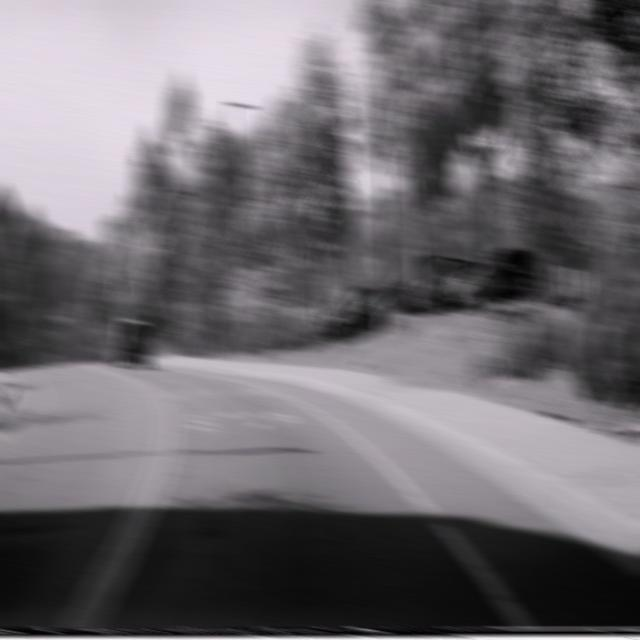pedestrianCrossing: (328, 231, 364, 286)
